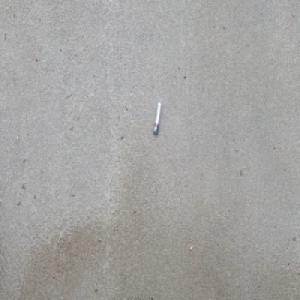Battery: (152, 101, 161, 136)
